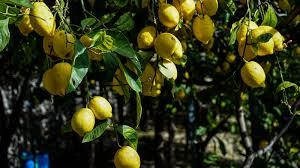lemon: (30, 2, 56, 36), (139, 63, 164, 96), (253, 26, 284, 51), (248, 29, 274, 56), (71, 108, 95, 137), (241, 61, 266, 88), (43, 68, 66, 96), (193, 14, 214, 44), (53, 30, 74, 59), (89, 95, 112, 120), (114, 146, 140, 168), (172, 0, 195, 24), (154, 33, 177, 56), (17, 6, 34, 36), (158, 3, 179, 27), (238, 21, 258, 45), (239, 37, 257, 61), (137, 26, 156, 48), (52, 62, 72, 81), (158, 59, 177, 79), (196, 0, 218, 16), (43, 33, 56, 54), (172, 39, 183, 59)
